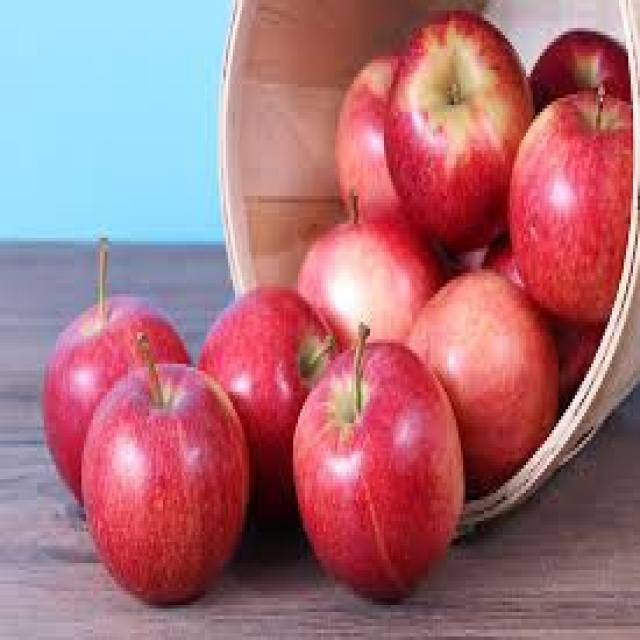Apple: (290, 322, 466, 602), (79, 332, 249, 605), (42, 238, 191, 508), (382, 7, 534, 252), (404, 266, 558, 494), (195, 283, 338, 528), (507, 84, 633, 329), (296, 192, 444, 350), (332, 52, 408, 224), (528, 24, 631, 112)
